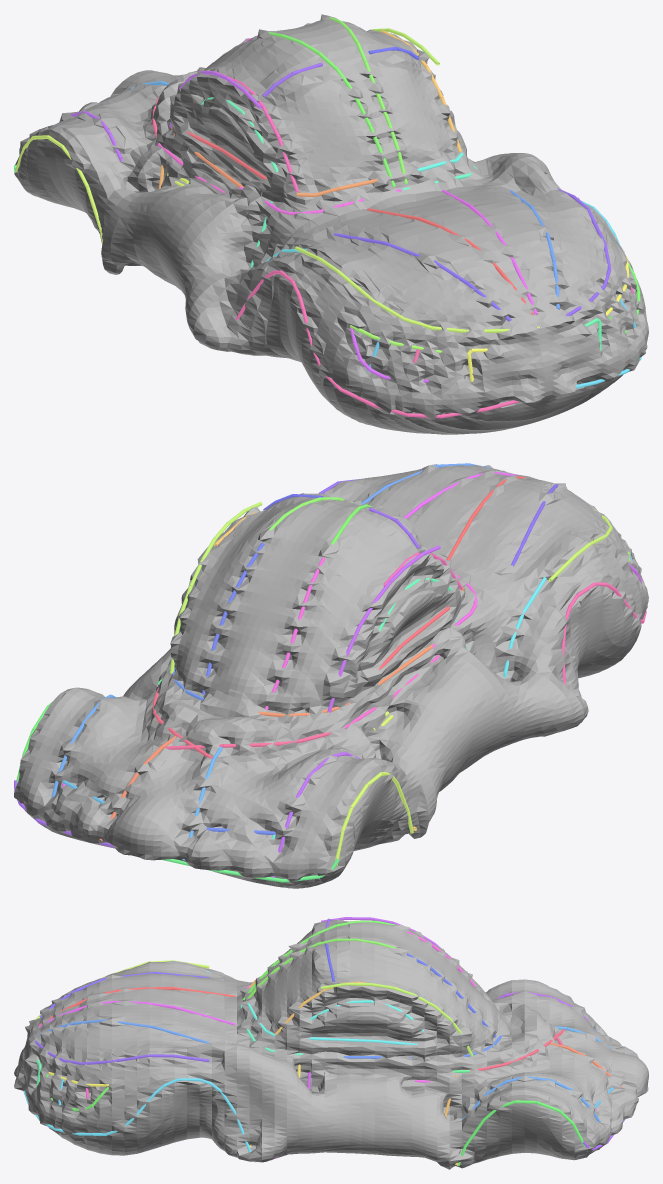
File: author1_car.gltf
3 views of the same model, one above another, from view 1: azimuth 30°, elevation 25°; view 2: azimuth 150°, elevation 25°; view 3: azimuth 270°, elevation 25° (orthographic). The views are drawn at different scales.
Size of the model in its own units: 0.4705 by 0.3134 by 0.8879.
